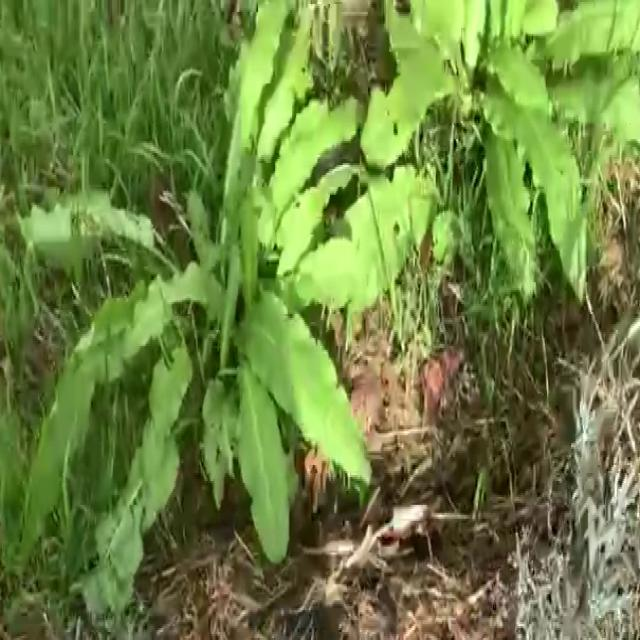organic waste: (11, 42, 393, 594), (372, 0, 640, 330)
